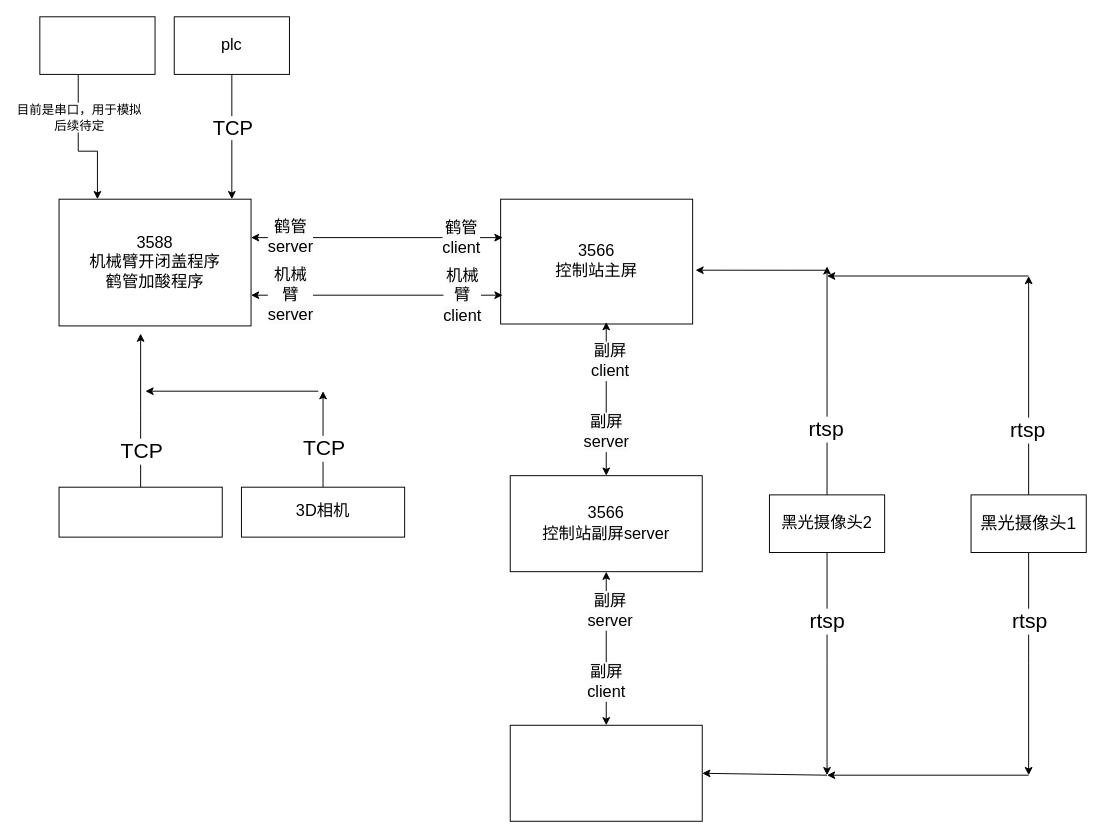
This 1103x838 diagram has some shape labels left out. The centre of each missing label's shape, as x and y in pixels:
3566 控制站司机屏: the point at 605,772
机械臂: the point at 140,511
鹤管: the point at 97,45
